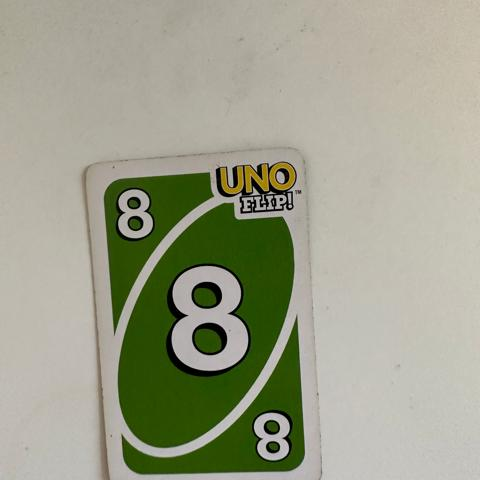lgreen-8: (97, 171, 180, 254)
